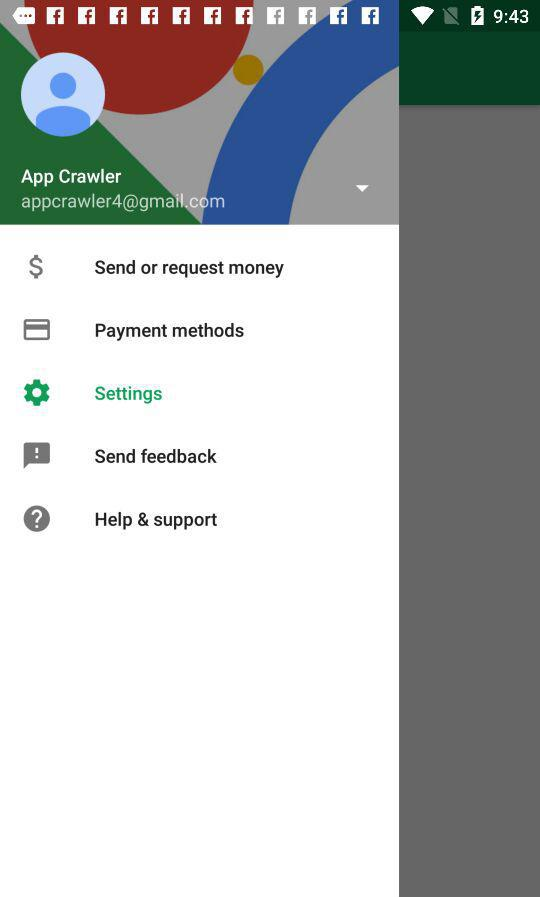Drawer: (1, 29, 400, 897)
Icon: (21, 52, 106, 138), (24, 442, 52, 470), (24, 505, 51, 533), (24, 379, 51, 407), (23, 319, 52, 342), (29, 255, 45, 281), (356, 185, 370, 193)
Text: (21, 193, 226, 214), (95, 260, 285, 280), (95, 322, 245, 343), (95, 511, 219, 532), (21, 168, 123, 189), (95, 448, 219, 465), (95, 386, 164, 405)
UpperTaskBar: (1, 1, 540, 33)
